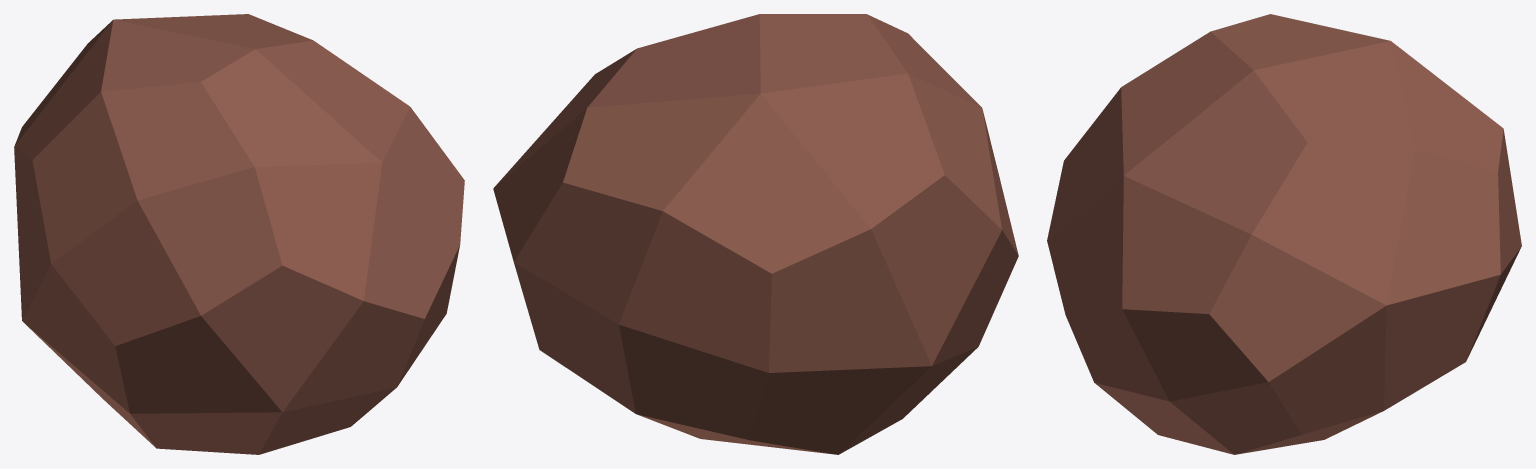
The model's file is 01_02Asteroid.fbx.
The picture shows the model from 3 angles, left to right: view 1: azimuth 30°, elevation 25°; view 2: azimuth 150°, elevation 25°; view 3: azimuth 270°, elevation 25°; orthographic projection. The views are drawn at different scales.
Parts seen in each view (by area): view 1: Icosphere.002; view 2: Icosphere.002; view 3: Icosphere.002.
Boxes of the visible parts, left/top/right/bottom form: Icosphere.002: left=14, top=14, right=464, bottom=454; Icosphere.002: left=493, top=14, right=1018, bottom=454; Icosphere.002: left=1047, top=14, right=1521, bottom=454.
Size of the model in its own units: 158 by 136 by 161.
